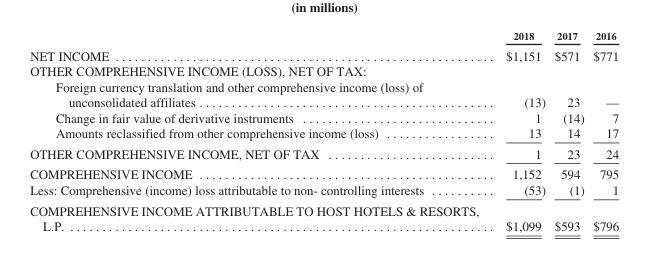table: (29, 29, 618, 232)
table column: (29, 29, 491, 232), (491, 29, 549, 232), (549, 29, 588, 232), (588, 29, 618, 232)
table column header: (29, 29, 618, 44)
table projected row header: (29, 62, 618, 78)
table row: (29, 199, 618, 232), (29, 78, 618, 109), (29, 143, 618, 163), (29, 124, 618, 143), (29, 44, 618, 62), (29, 163, 618, 181), (29, 181, 618, 199), (29, 62, 618, 78), (29, 29, 618, 44), (29, 109, 618, 124)
